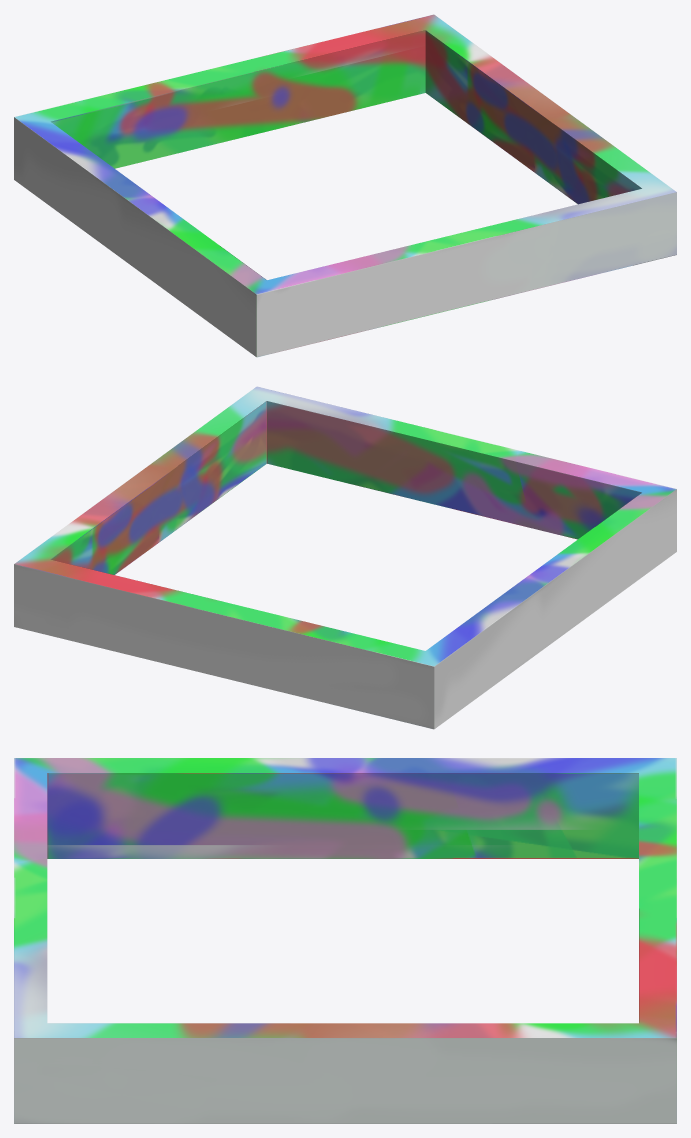
File: GameZoneWall.dae
The picture shows the model from 3 angles, top to bottom: view 1: azimuth 30°, elevation 25°; view 2: azimuth 150°, elevation 25°; view 3: azimuth 270°, elevation 25°; orthographic projection. The views are drawn at different scales.
Visible parts, largest first — view 1: Cube; view 2: Cube; view 3: Cube.
Part boxes in pixels (box(x1,y1,x2,y2)): Cube: box(14, 14, 676, 357); Cube: box(14, 386, 676, 729); Cube: box(14, 758, 676, 1123).
Bounding box in the file's own units: 14.01 × 14.01 × 2.
1 material, 1 textured.
